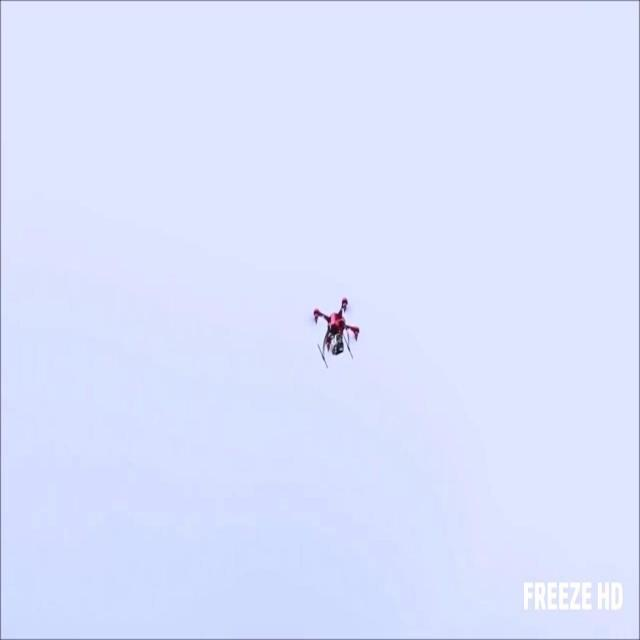UAV: (312, 296, 360, 366)
